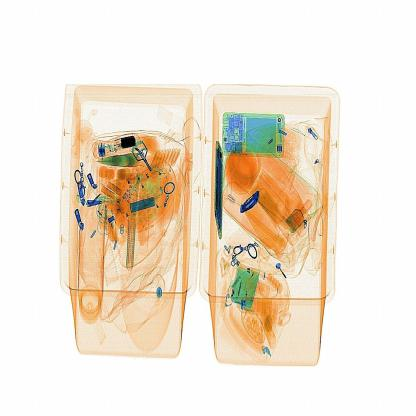knife: (238, 188, 267, 220)
